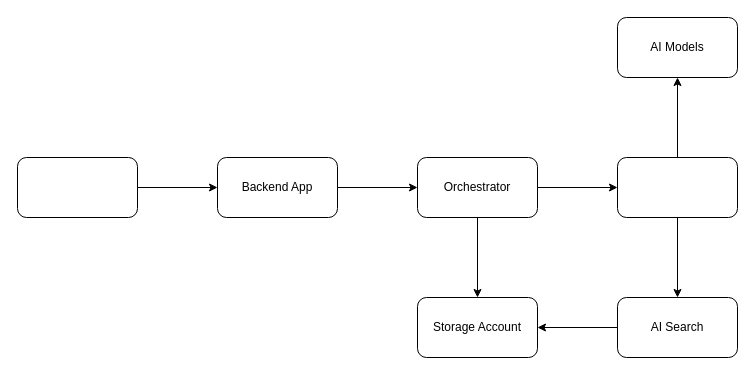
The diagram is 755 pixels wide and 375 high, and some of its shapes have lost their labels. The box of each missing label's shape, as (x1, y1, x2, y2) in pixels:
Azure Foundry: (616, 156, 738, 218)
FrontEnd App: (16, 156, 138, 218)
